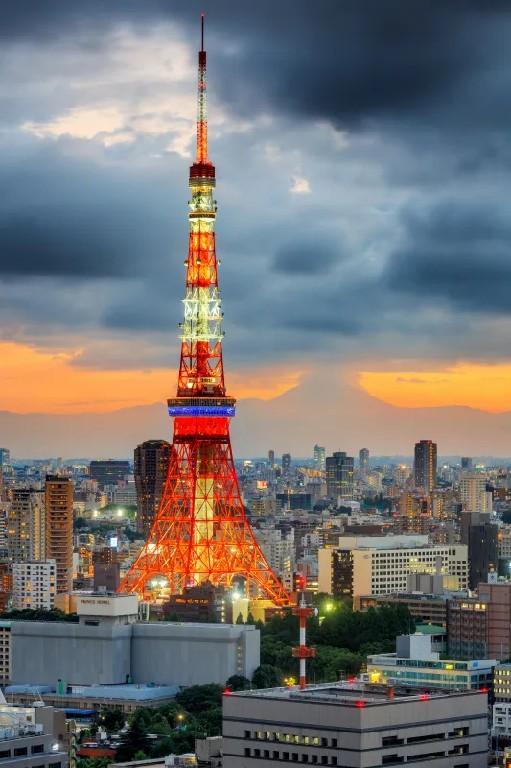Tokyo: (112, 9, 288, 605)
